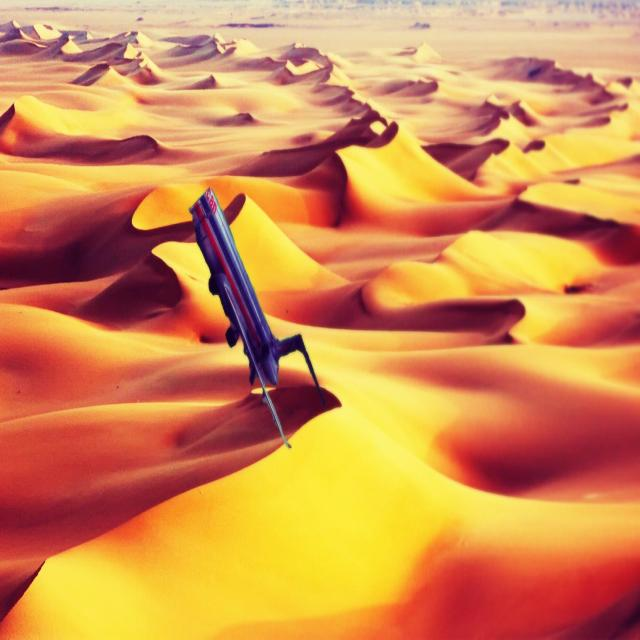airplane: (188, 185, 326, 449)
